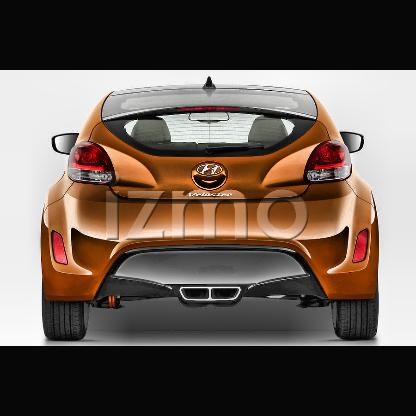Hyundai Veloster Hatchback 2012: (33, 70, 393, 346)
